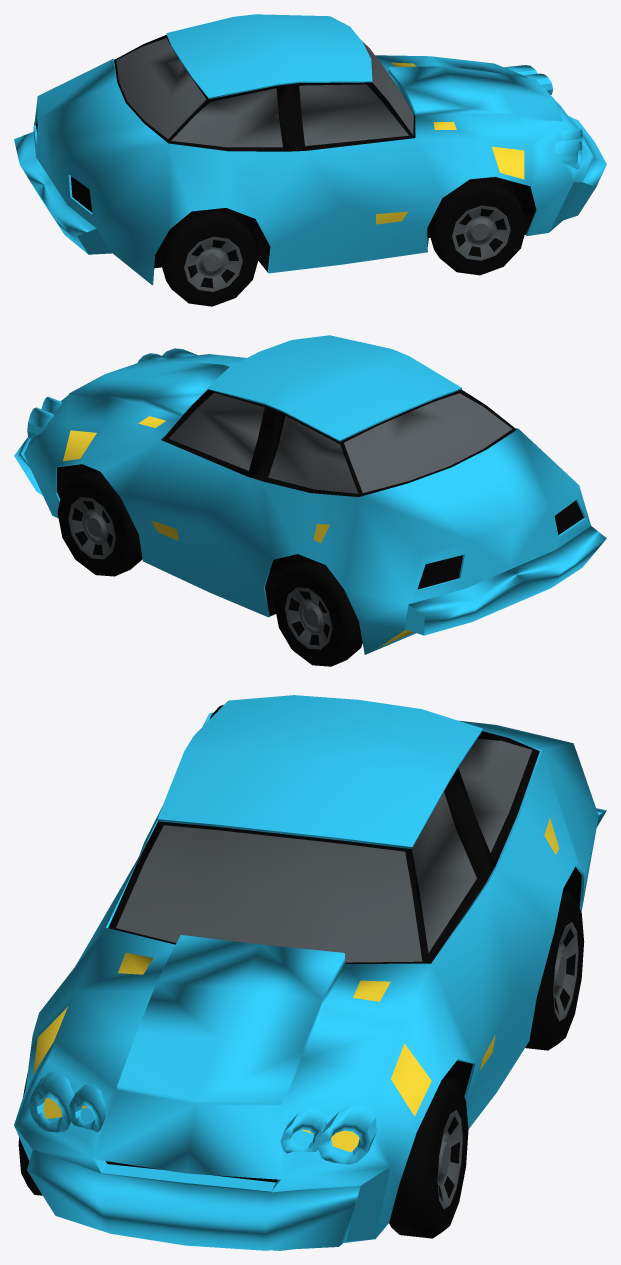
The model's file is ToyObject_042.fbx.
3 views of the same model, one above another, from view 1: azimuth 30°, elevation 25°; view 2: azimuth 150°, elevation 25°; view 3: azimuth 270°, elevation 25° (orthographic). The views are drawn at different scales.
Visible parts, largest first — view 1: object-1.024; view 2: object-1.024; view 3: object-1.024.
Boxes of the visible parts, bbox=[...] form: object-1.024: bbox=[14, 14, 606, 306]; object-1.024: bbox=[14, 335, 606, 666]; object-1.024: bbox=[14, 695, 606, 1250].
Bounding box in the file's own units: 0.2148 × 0.0821 × 0.1299.
